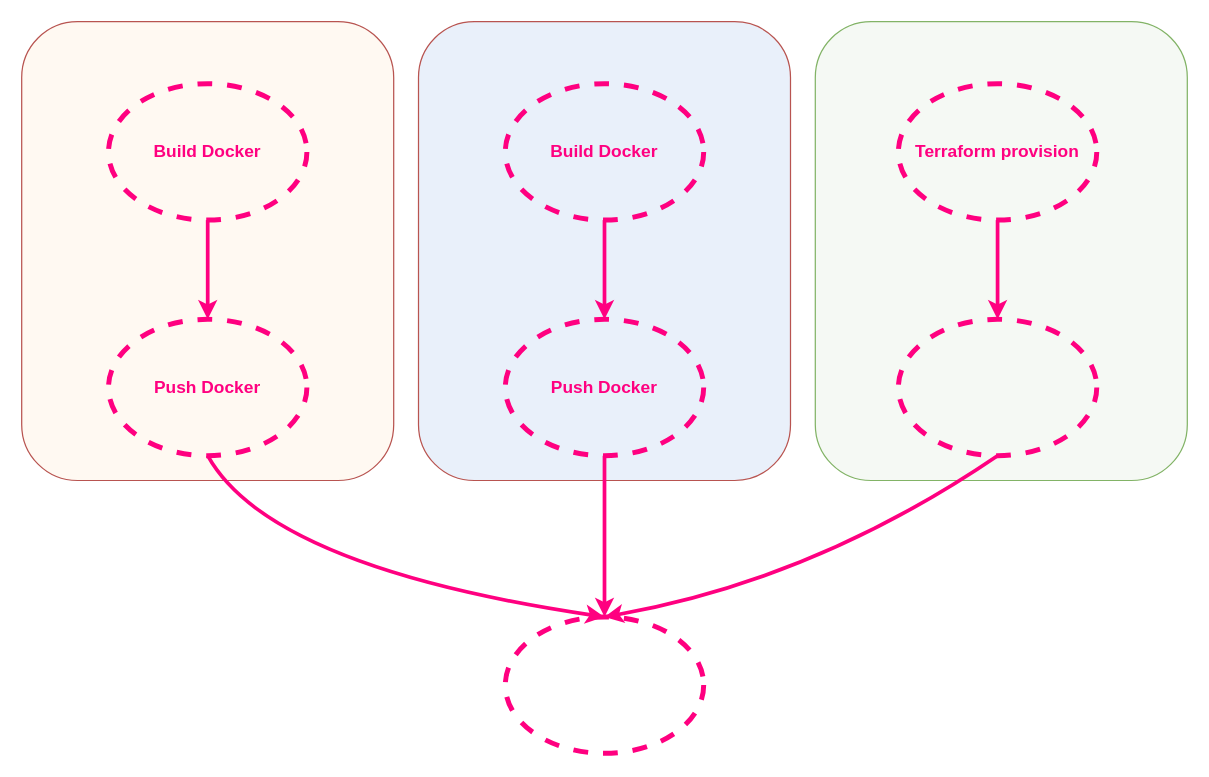
Image size: 1209x777. Some labels were removed from this diagram. The shapes that lost their labels are listed below. From the top down, each one's centre as x and y in pixels, then its label:
At (997,387): "EKS".
At (604,684): "Deploy Kube Manifest".
